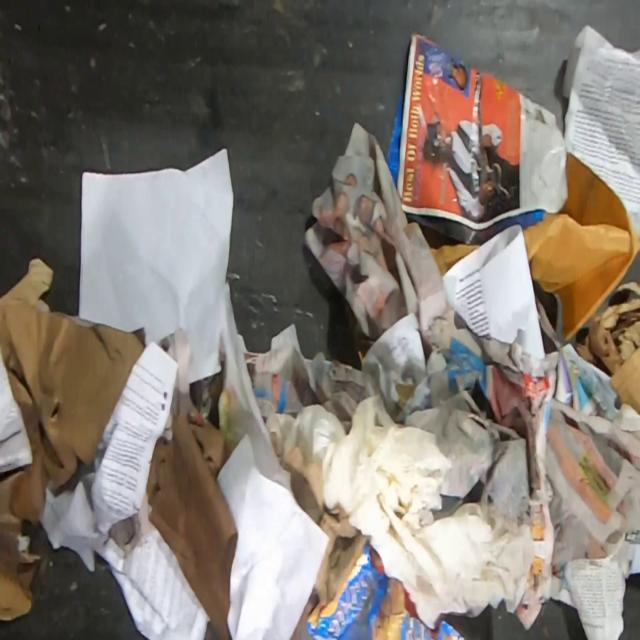cardboard: (0, 257, 146, 620), (146, 412, 238, 640), (608, 344, 640, 415)
soft_plastic: (304, 540, 467, 639)
